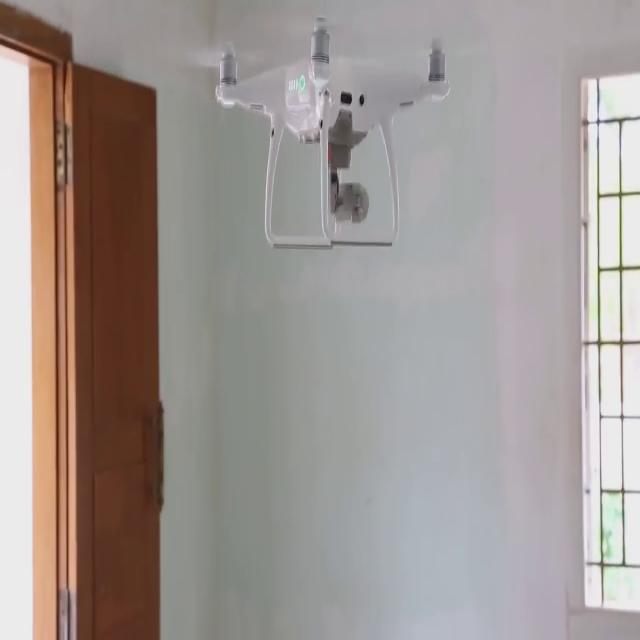drone: (186, 15, 472, 285)
